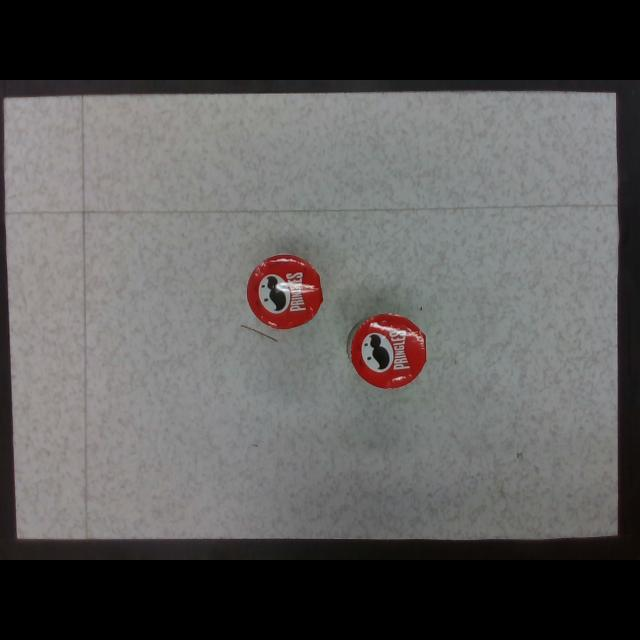canSnack: (350, 314, 427, 389), (247, 255, 324, 329)
